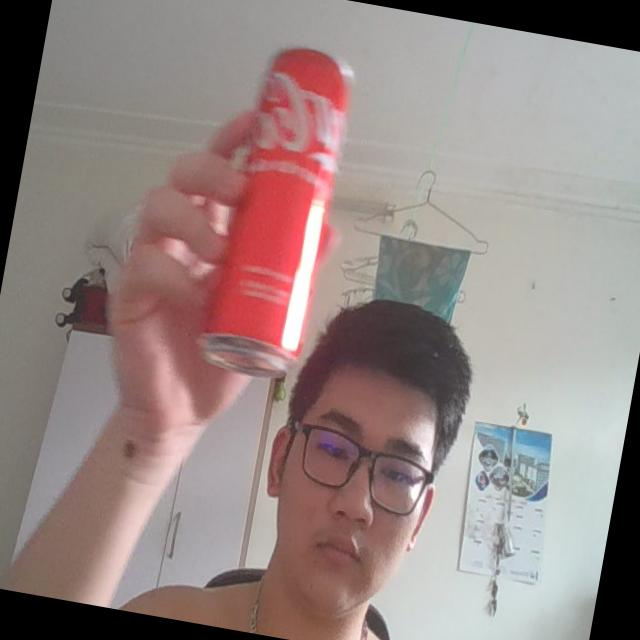Coca Cola: (192, 34, 364, 384)
